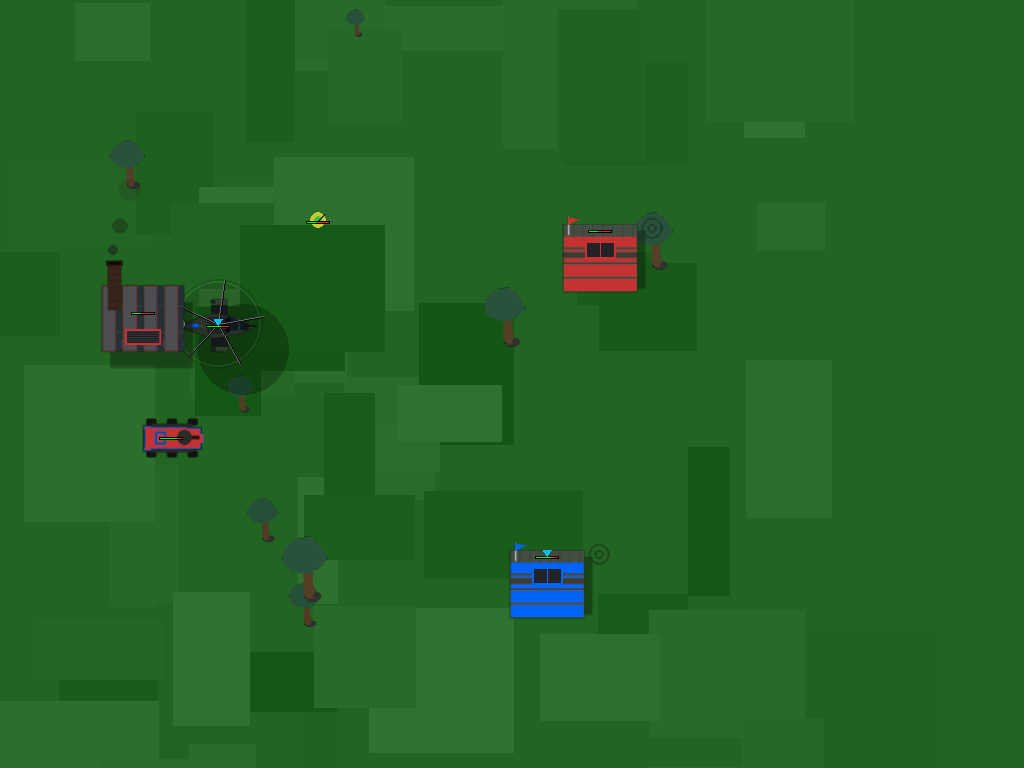APC_usa: (144, 409, 197, 462)
Barracks: (553, 182, 647, 276), (500, 508, 594, 602)
CombatEngineer: (302, 204, 333, 235)
FactoryBuilding: (88, 256, 198, 366)
WZ10: (184, 289, 253, 358)
